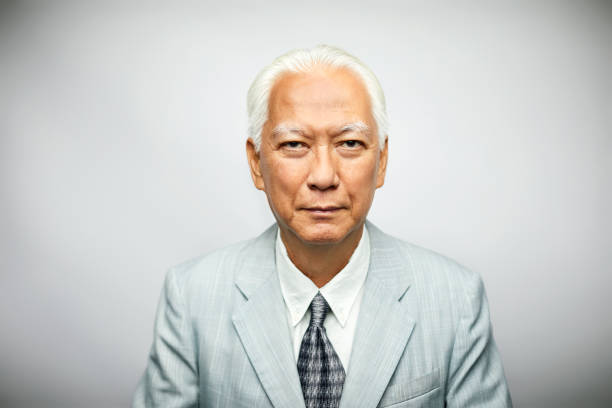person: (243, 45, 390, 246)
